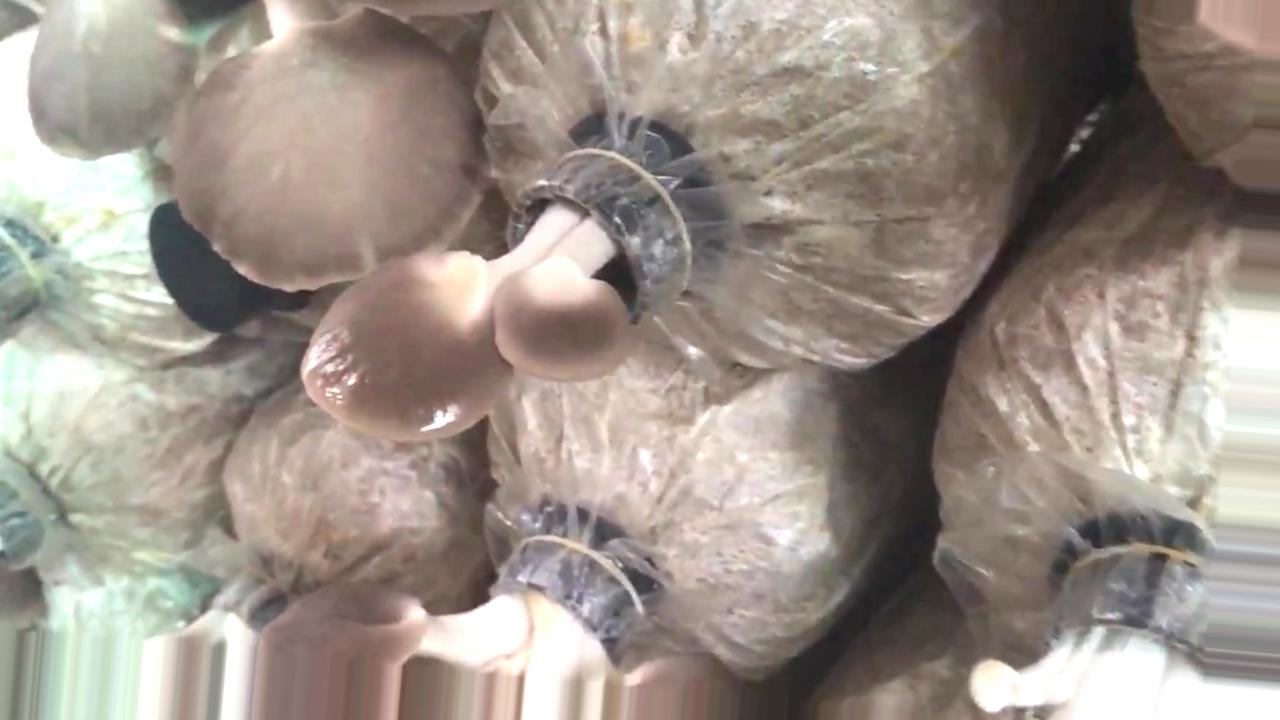nam: (25, 1, 501, 299), (298, 131, 709, 449), (145, 521, 749, 720)
